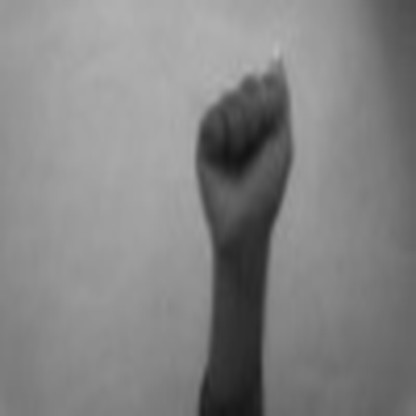a: (191, 50, 301, 242)
